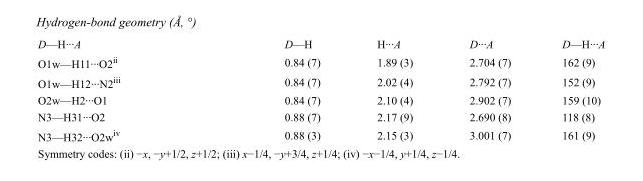table: (37, 37, 604, 142)
table column: (37, 37, 201, 142), (201, 37, 347, 142), (440, 37, 535, 142), (347, 37, 440, 142), (535, 37, 604, 142)
table row: (37, 51, 604, 71), (37, 71, 604, 91), (37, 124, 604, 142), (37, 91, 604, 108), (37, 108, 604, 124), (37, 37, 604, 51)
